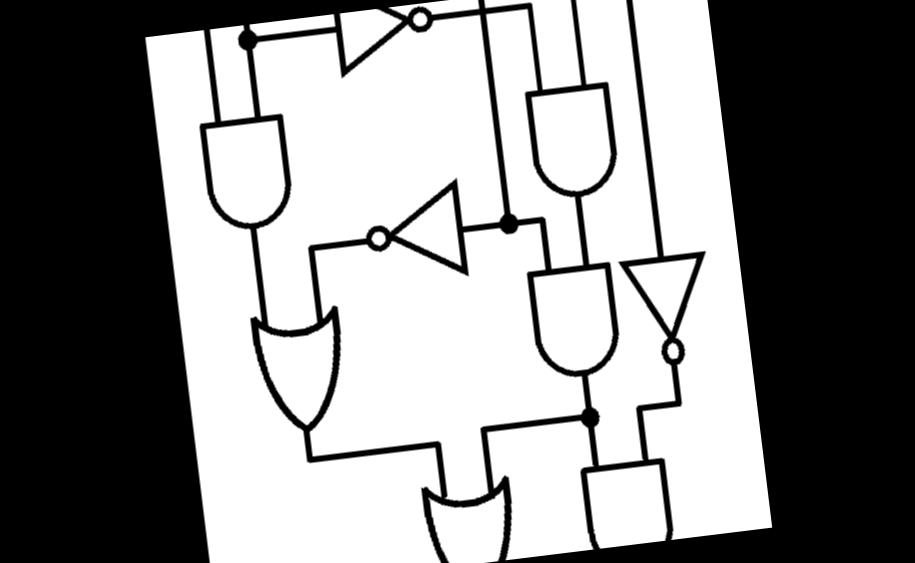and: (515, 73, 628, 209), (192, 104, 302, 240), (522, 254, 628, 390), (573, 449, 676, 550)
not: (612, 238, 726, 375), (354, 170, 475, 293), (324, 0, 445, 83)
or: (240, 295, 360, 443), (411, 463, 525, 563)
